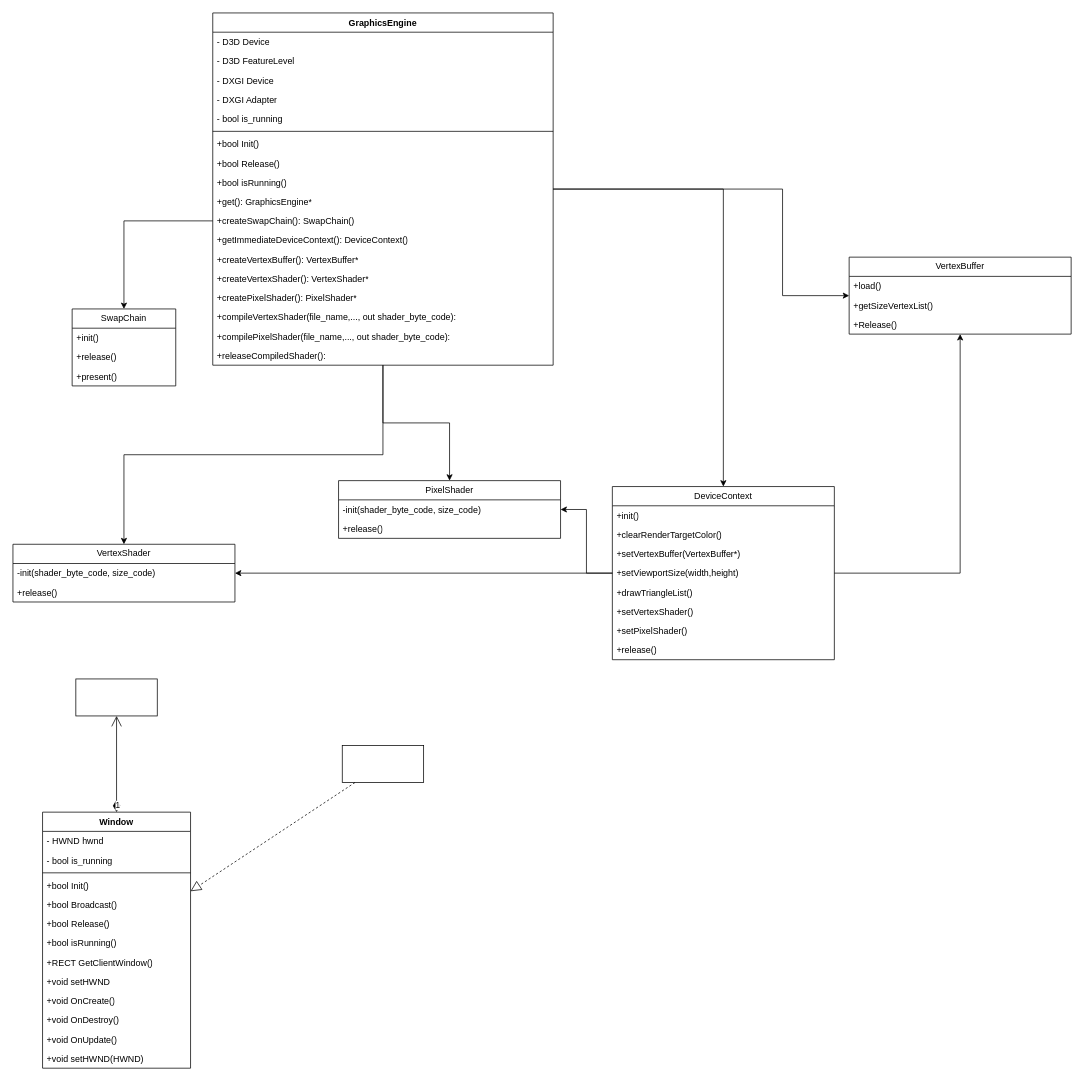
The diagram is 1084 pixels wide and 1083 high, and some of its shapes have lost their labels. The centre of each missing label's shape, as x and y in pixels:
AppWindow: (x=383, y=764)
HWND: (x=116, y=697)
